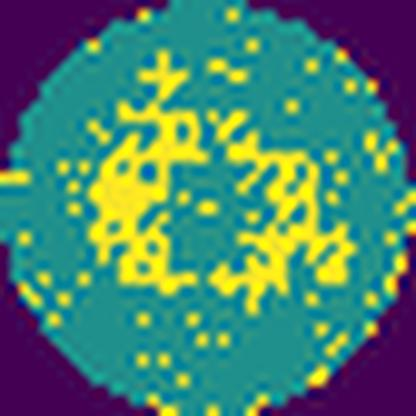Donut: (84, 49, 356, 303)
